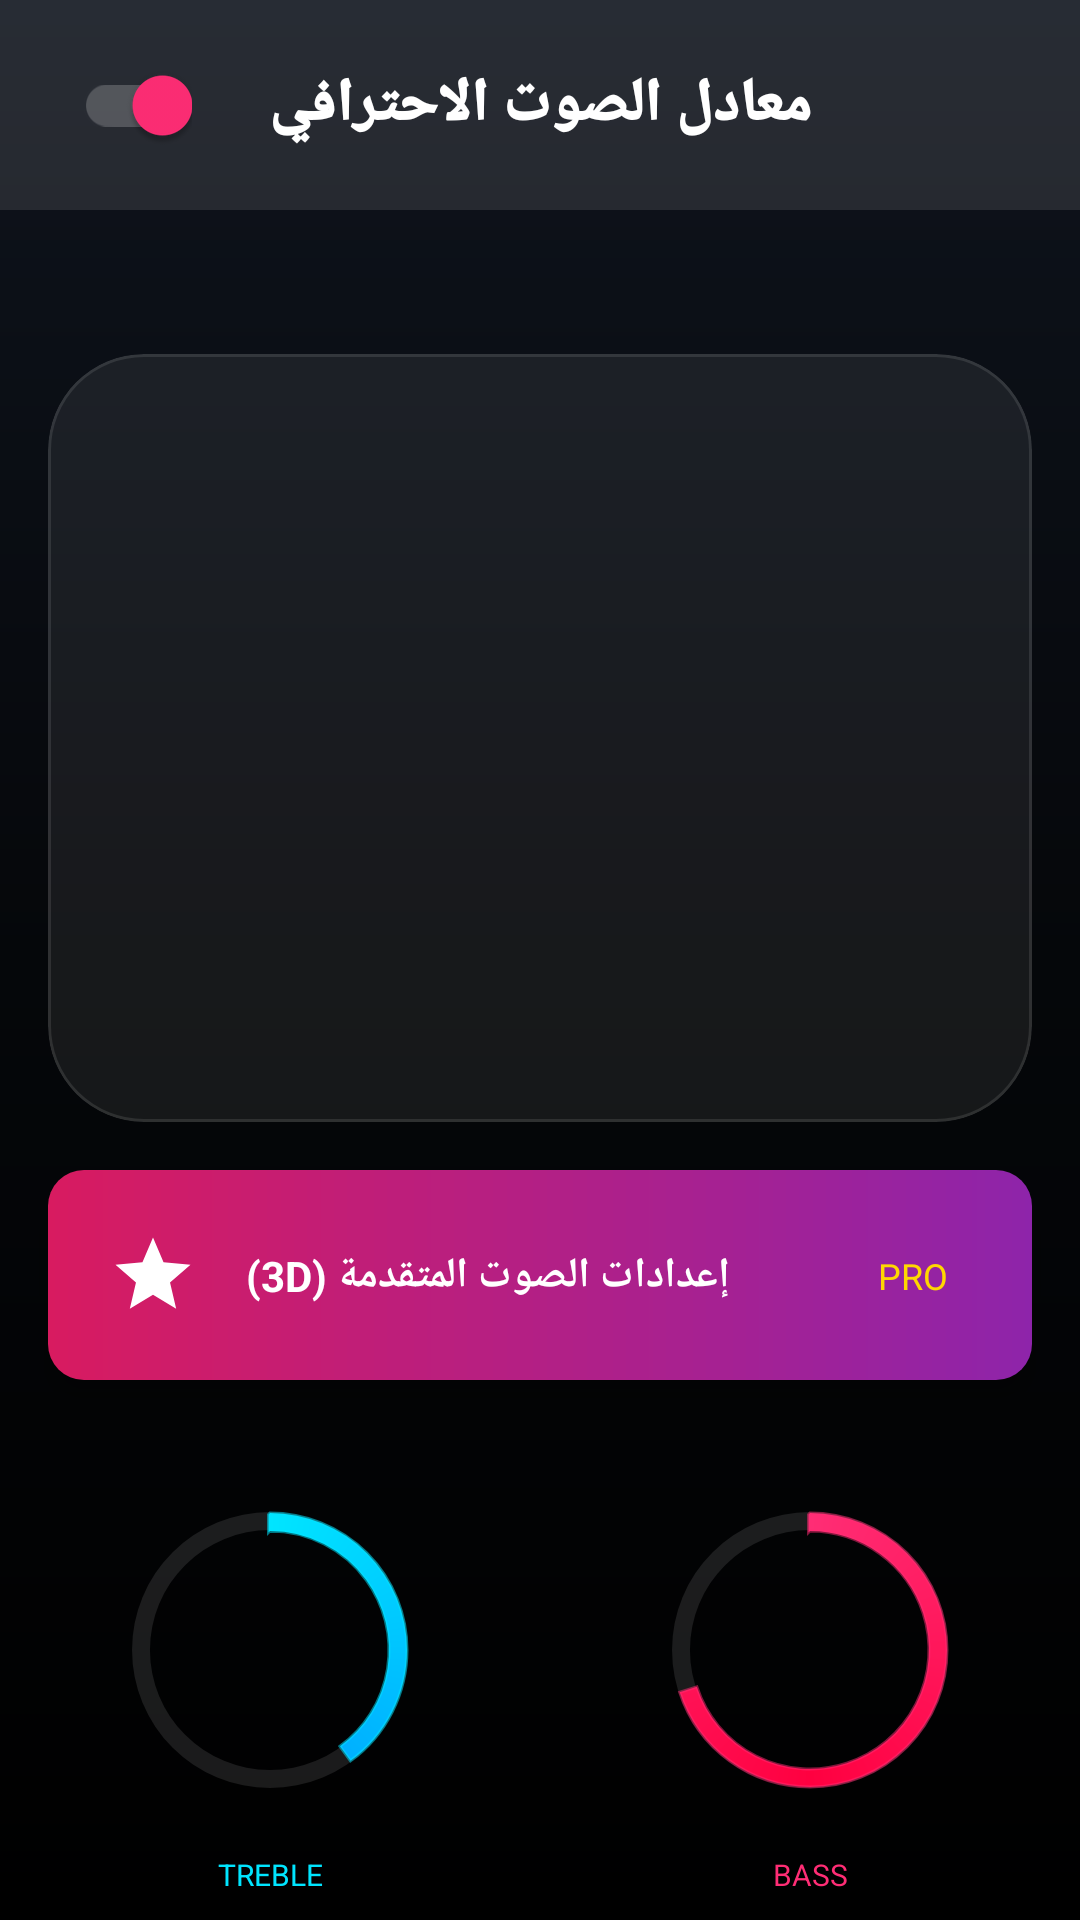

Point at icon controls on the screen. Image size 1080×1920, points as (x,y).
star: (153,1273)
